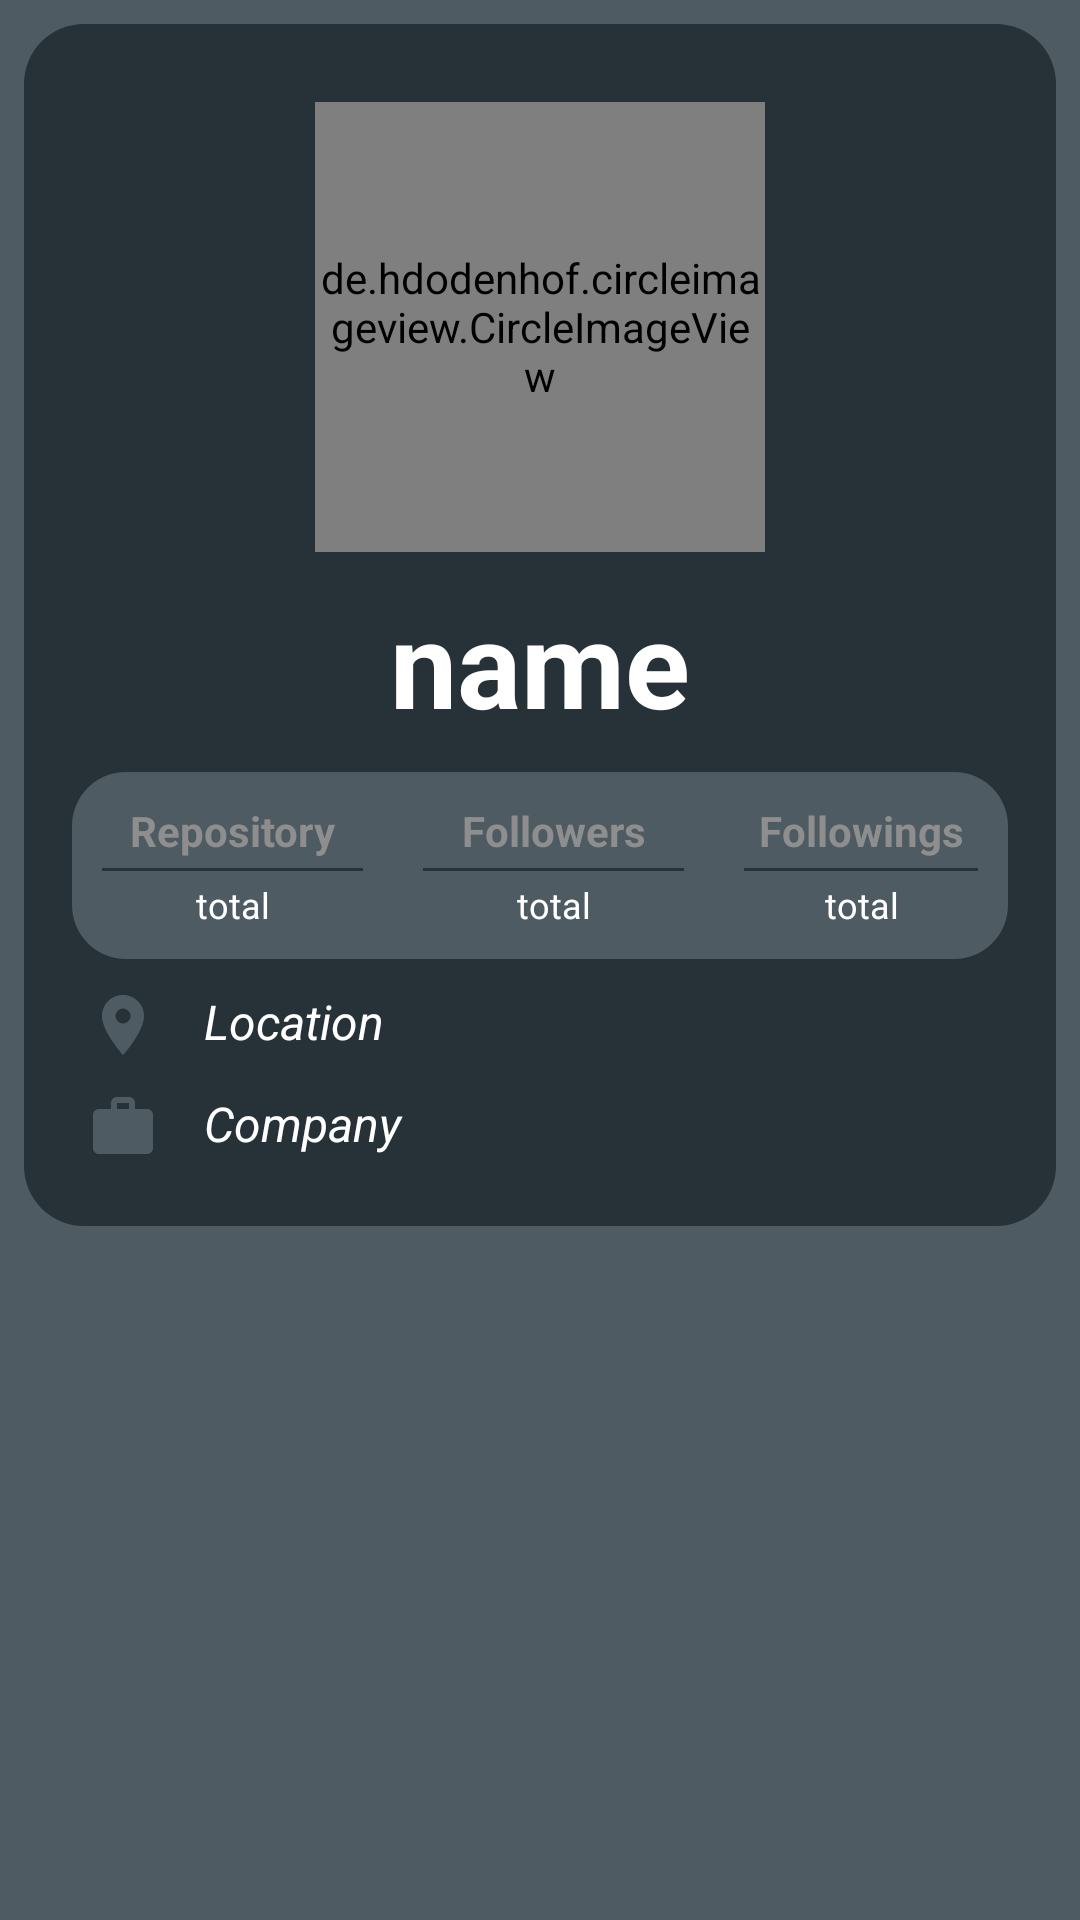

Icon bounding boxes for this 1080x1920 phone screenshot, format [x1, y1, x2, y2]:
loc: [102, 995, 144, 1054]
